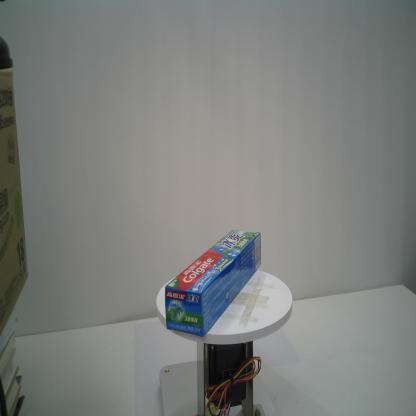Personal Hygiene: (164, 228, 263, 340)
